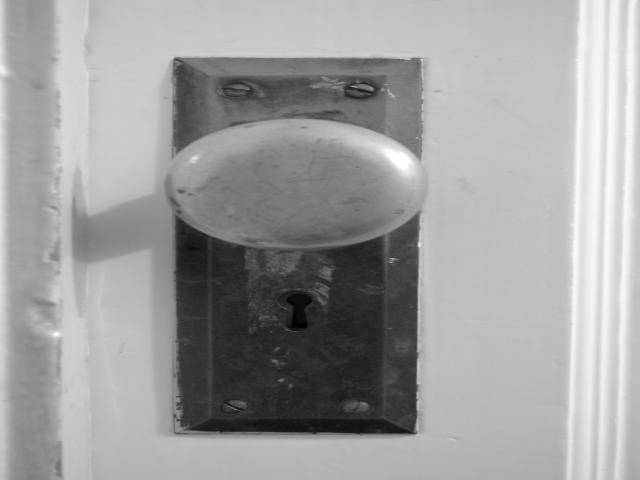Door-handle: (165, 52, 426, 438)
